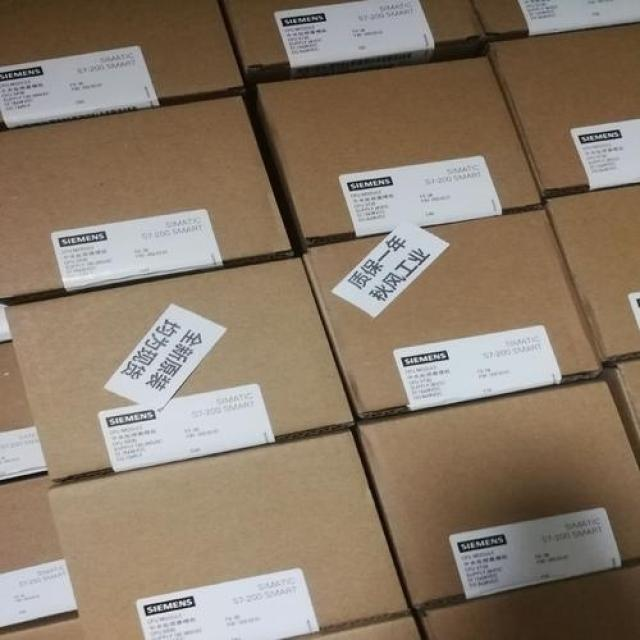box: (4, 254, 357, 479), (48, 431, 410, 639), (353, 380, 639, 609), (307, 208, 602, 422), (0, 97, 297, 302), (255, 57, 544, 247), (1, 1, 244, 127), (489, 23, 639, 194), (218, 0, 489, 82), (412, 561, 639, 639), (545, 183, 639, 363), (0, 469, 75, 634), (0, 340, 45, 480), (292, 616, 420, 639), (608, 358, 639, 452)
